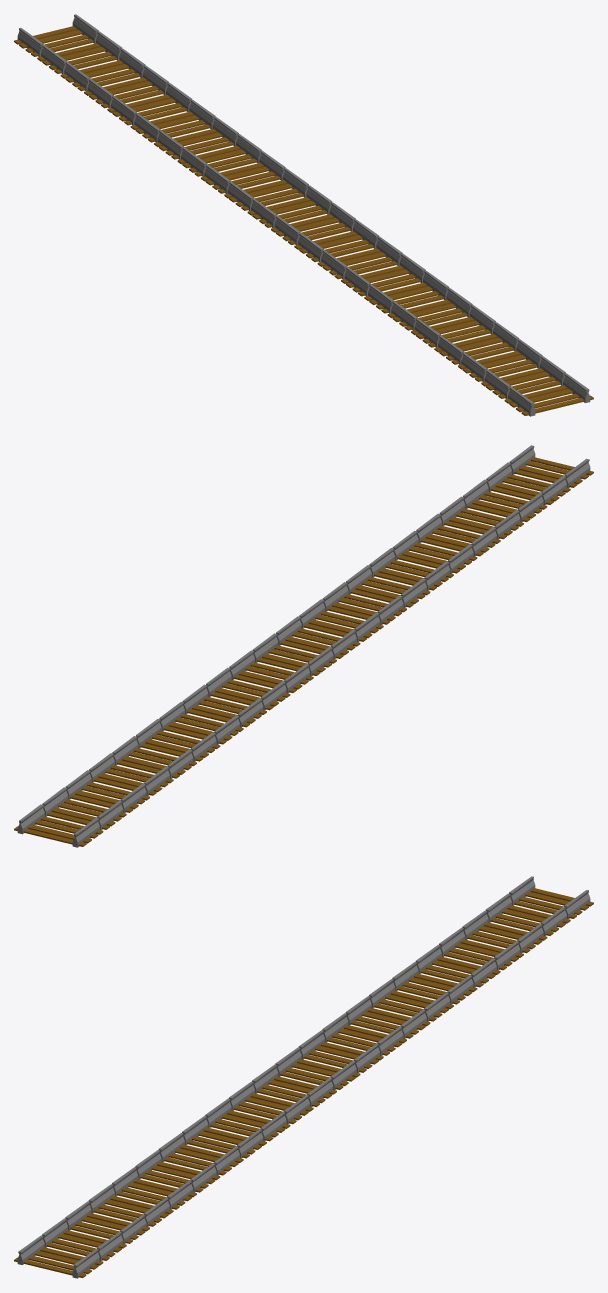
File: platform-rail.fbx
The picture shows the model from 3 angles, top to bottom: view 1: azimuth 30°, elevation 25°; view 2: azimuth 150°, elevation 25°; view 3: azimuth 330°, elevation 25°; orthographic projection.
Visible parts, largest first — view 1: Rail; view 2: Rail; view 3: Rail.
Boxes of the visible parts, bbox=[...] form: Rail: bbox=[14, 14, 593, 416]; Rail: bbox=[14, 445, 593, 847]; Rail: bbox=[14, 876, 593, 1278].
Bounding box in the file's own units: 103 × 18.11 × 1324.
